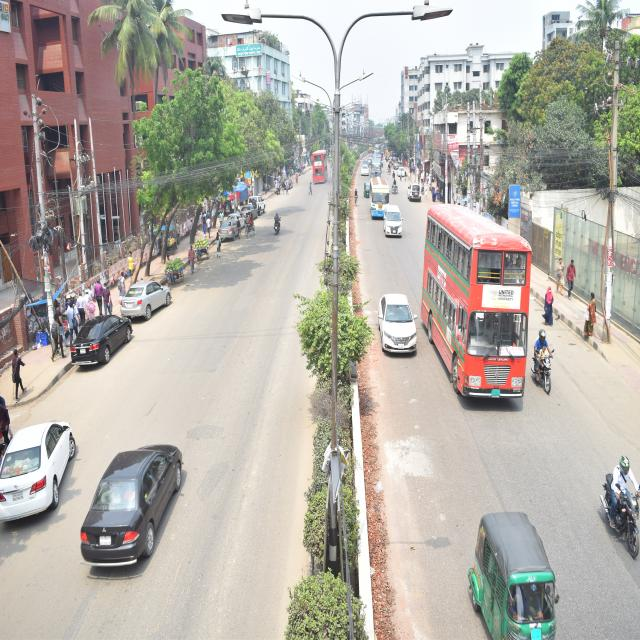bus: (416, 199, 531, 414), (369, 177, 392, 218), (310, 142, 332, 184)
car: (74, 437, 200, 577), (0, 413, 85, 521), (67, 308, 133, 372), (368, 290, 422, 356), (117, 272, 177, 322), (216, 213, 244, 238), (404, 178, 423, 202)
microbus: (383, 204, 408, 243)
motorbike: (593, 461, 640, 573), (530, 329, 558, 396), (269, 208, 286, 235)
